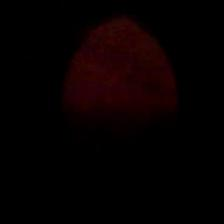fertile: (60, 15, 180, 179)
